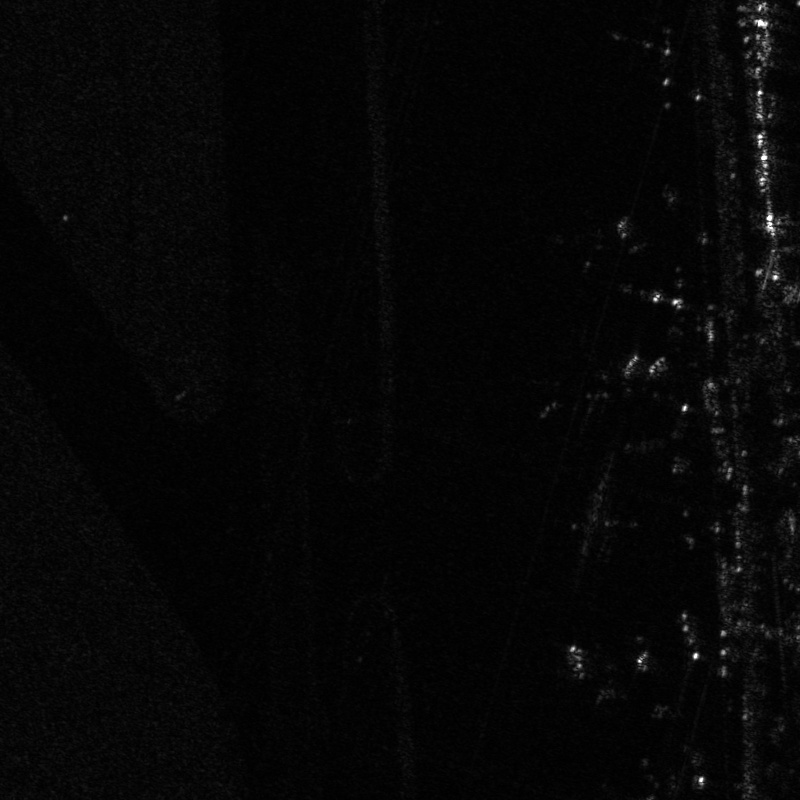ARJ21: (556, 625, 662, 708)
